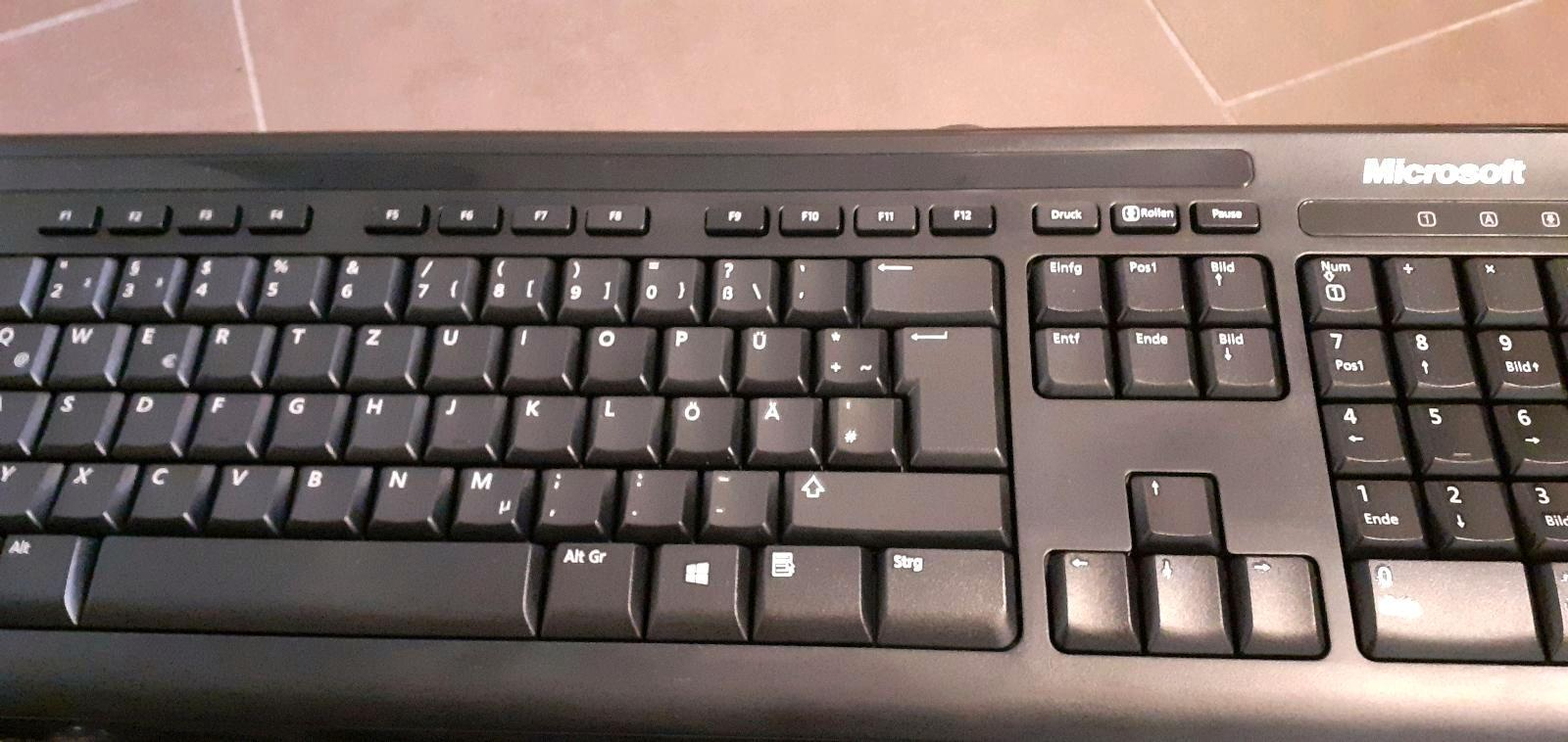0: (632, 252, 697, 310)
2: (36, 251, 108, 308)
3: (107, 249, 176, 306)
4: (180, 250, 246, 306)
5: (254, 250, 318, 306)
6: (327, 251, 394, 307)
7: (405, 251, 471, 310)
8: (480, 251, 546, 308)
9: (556, 251, 622, 309)
accent: (784, 252, 845, 310)
ae: (747, 391, 812, 451)
alt-left: (1, 527, 76, 624)
altgr-right: (537, 535, 636, 634)
b: (284, 458, 362, 520)
c: (123, 457, 207, 518)
comma: (534, 462, 607, 526)
d: (110, 387, 187, 446)
del: (860, 252, 989, 311)
e: (119, 316, 192, 379)
enter: (889, 320, 999, 459)
f: (187, 387, 262, 447)
g: (267, 387, 338, 447)
h: (346, 388, 417, 447)
hash: (827, 392, 893, 453)
i: (504, 319, 572, 377)
j: (426, 388, 500, 449)
k: (508, 390, 577, 449)
keyboard: (5, 131, 1567, 737)
l: (588, 390, 657, 450)
m: (451, 461, 524, 524)
minus: (701, 464, 769, 525)
n: (367, 460, 443, 521)
o: (580, 320, 648, 378)
oe: (668, 391, 732, 451)
p: (660, 320, 725, 379)
plus: (813, 321, 880, 382)
point: (618, 463, 688, 525)
q: (1, 317, 51, 377)
r: (192, 317, 265, 378)
s: (33, 386, 113, 446)
shift-right: (783, 465, 1003, 530)
space: (76, 530, 532, 634)
ss: (707, 252, 770, 310)
strg-right: (868, 541, 1015, 647)
t: (270, 317, 340, 376)
u: (424, 318, 494, 378)
ue: (736, 320, 802, 381)
v: (204, 458, 283, 519)
w: (46, 315, 117, 377)
x: (44, 456, 130, 517)
y: (1, 456, 60, 515)
z: (346, 317, 415, 378)
